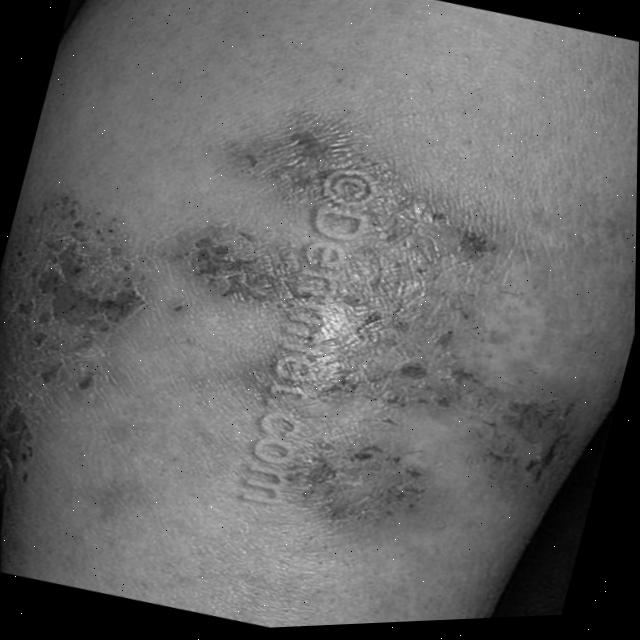Eczema: (167, 133, 612, 561), (0, 194, 150, 492)
